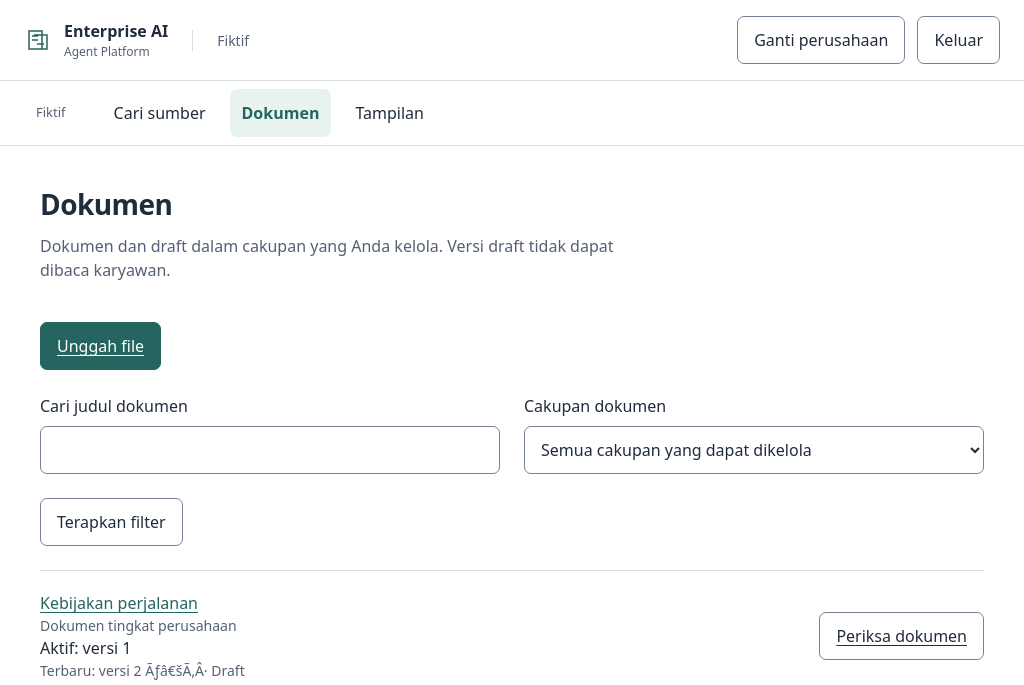
Test: distinguishes unavailable catalog from a successfully empty result and removes the prior list on filter changes
Expected: the link "Kebijakan perjalanan" is shown, [40,592,198,614]
Type "other" into the field labelled "Cari judul dokumen".
click(270, 450); type("other")  # box [40,426,500,474]
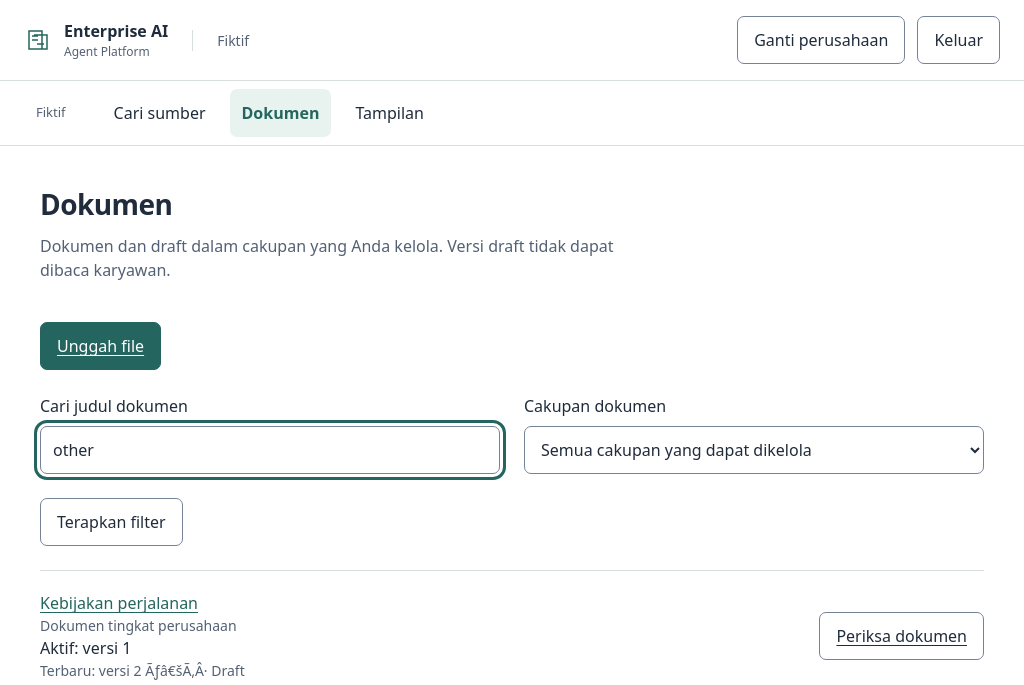
Click the button "Terapkan filter".
click(111, 522)  # box [40,498,183,546]
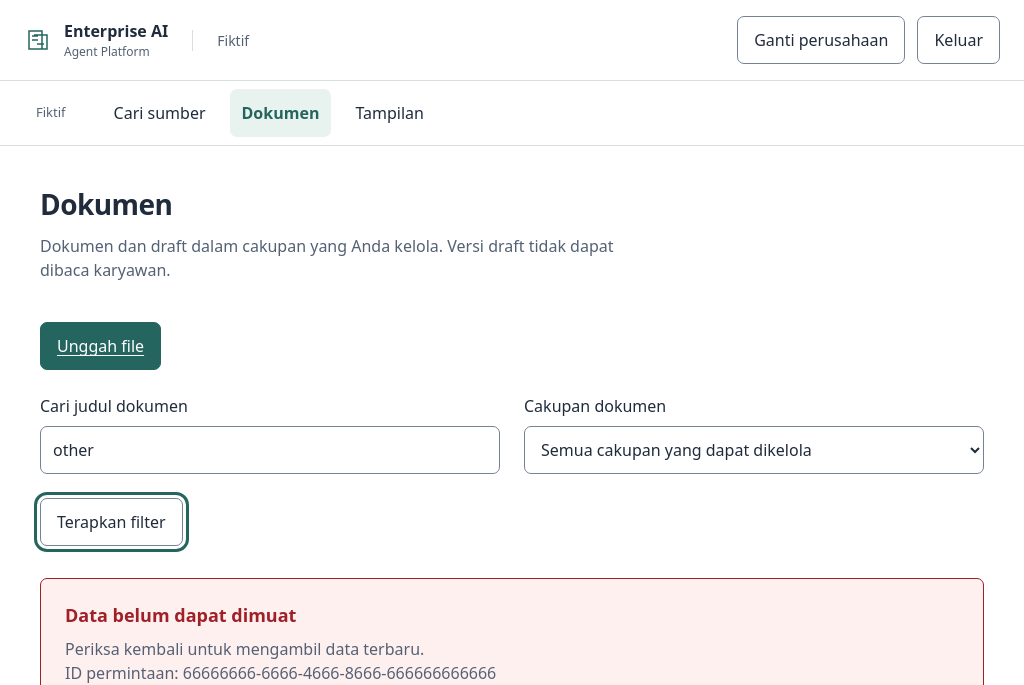
Expected: the button "Keluar" is shown, [918,16,1000,64]
Now the heading "Data belum dapat dimuat" is shown, box [65,603,296,627]
Now the link "Kebijakan perjalanan" is gone
